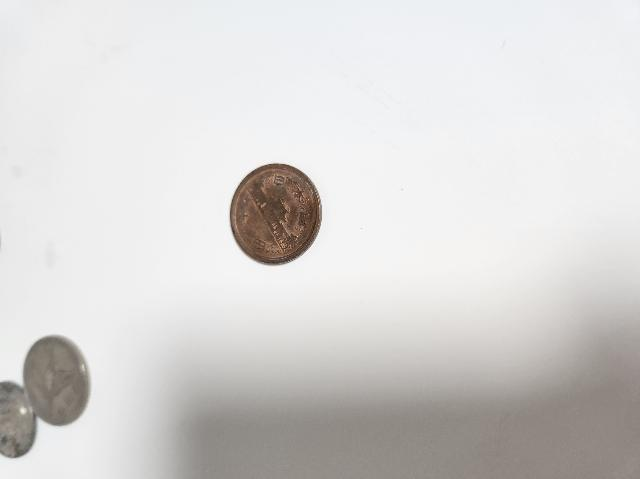coin: (225, 158, 327, 266)
